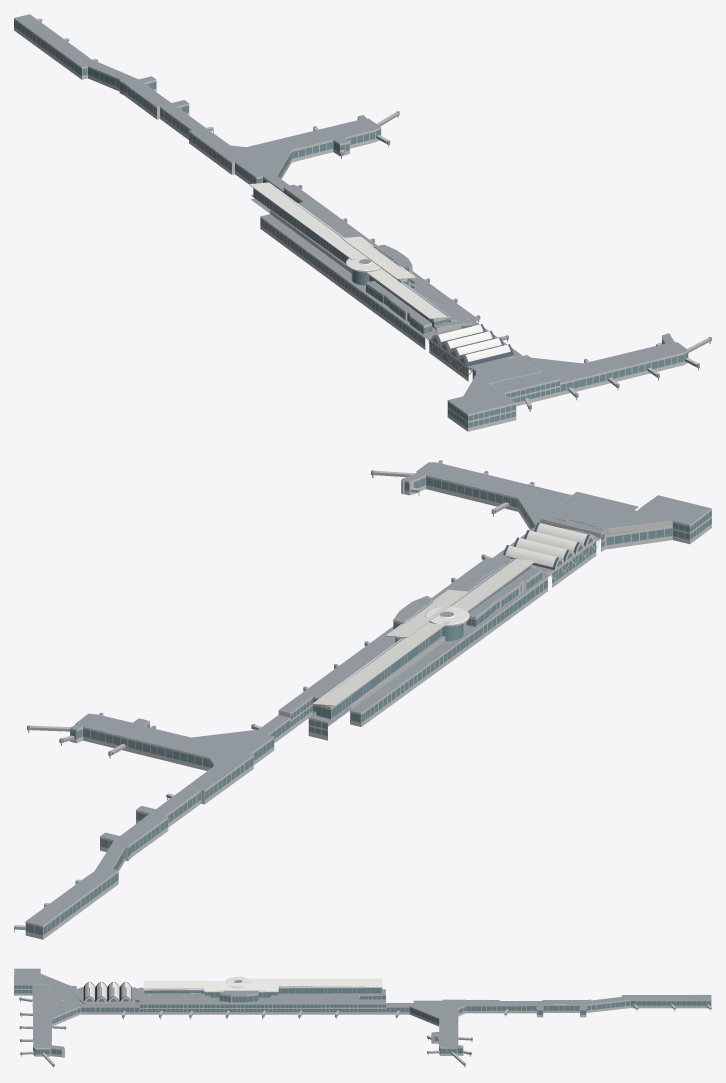
Rendered from tokyo-haneda-terminal-2.glb.
3 views of the same model, one above another, from view 1: azimuth 30°, elevation 25°; view 2: azimuth 150°, elevation 25°; view 3: azimuth 270°, elevation 25° (orthographic). The views are drawn at different scales.
Visible parts, largest first — view 1: Haneda Airport Terminal 2; view 2: Haneda Airport Terminal 2; view 3: Haneda Airport Terminal 2.
Boxes of the visible parts, x1,y1,x2,y2 form: Haneda Airport Terminal 2: [14, 14, 711, 431]; Haneda Airport Terminal 2: [14, 460, 711, 939]; Haneda Airport Terminal 2: [14, 968, 711, 1068].
Bounding box in the file's own units: 414 × 44 × 1375.
